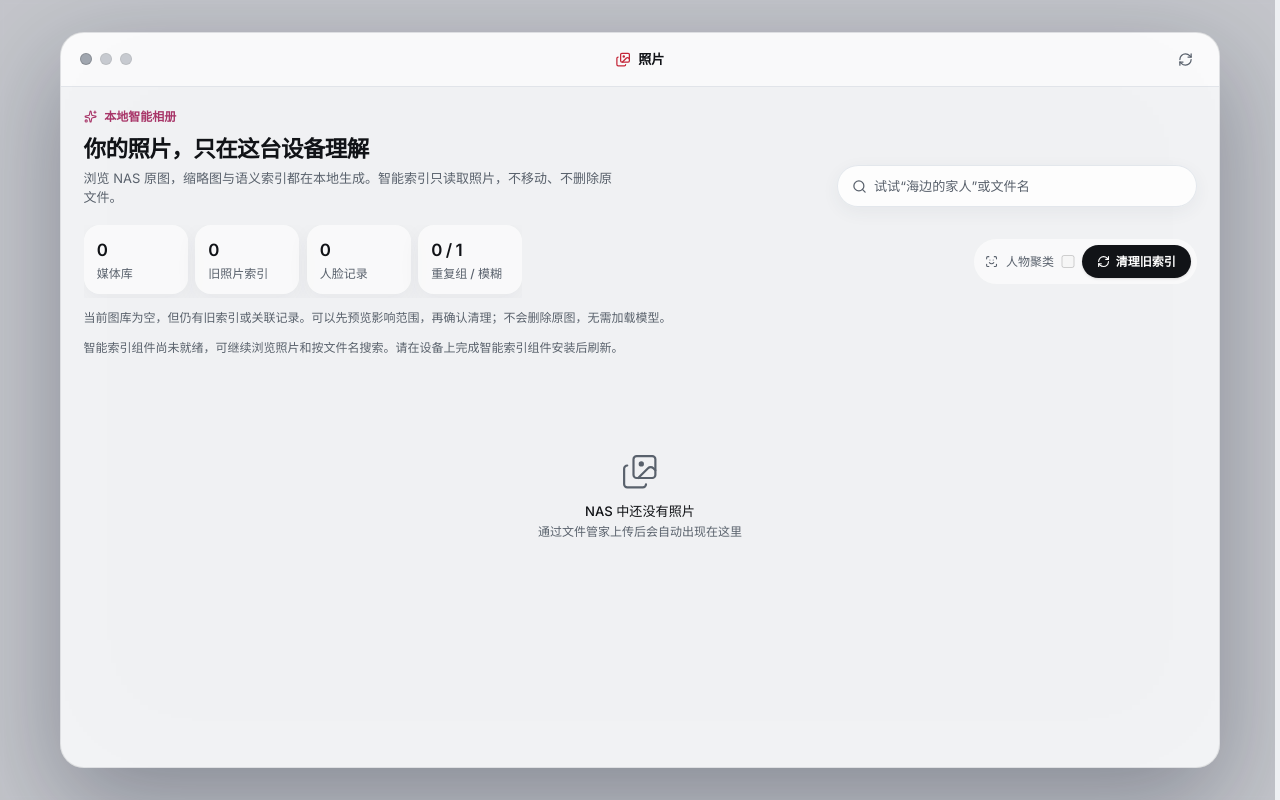
Test: PhotosPanel › previews residual annotations even when no photo or face rows remain
Click the button "清理旧索引".
click(1136, 262)  # box [1082,245,1191,278]
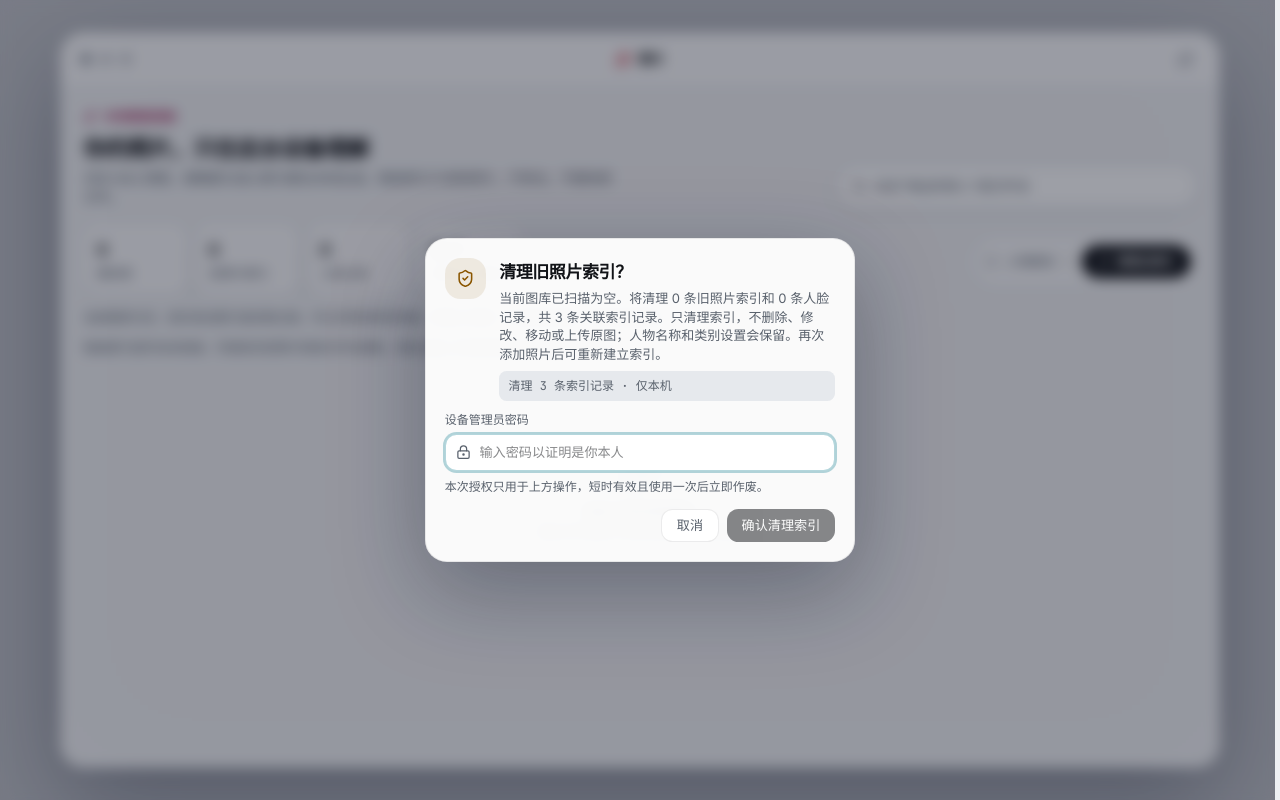
Expected: the dialog "清理旧照片索引？" is shown, [425,238,855,562]
Expected: the text "0 条旧照片索引和 0 条人脸记录，共 3 条关联索引记录" shows "不删除、修改、移动或上传原图", [499,290,829,362]
Expected: the button "确认清理索引" is disabled, [727,508,835,542]
